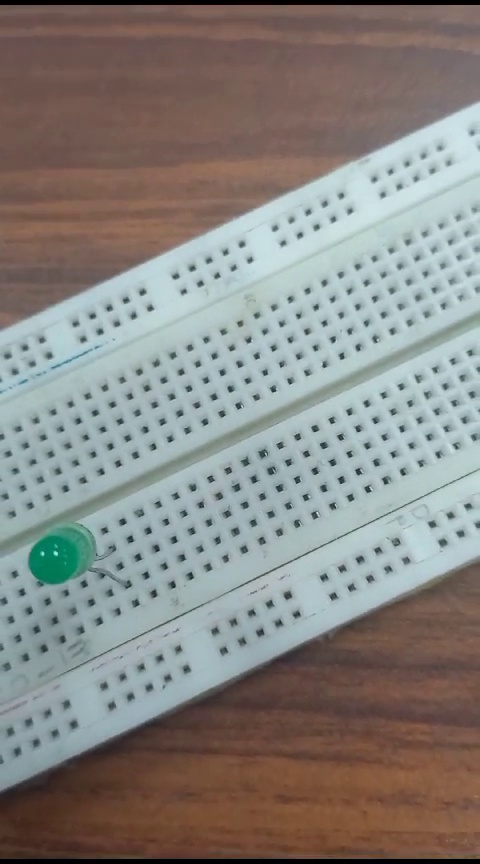LED: (24, 521, 123, 596)
